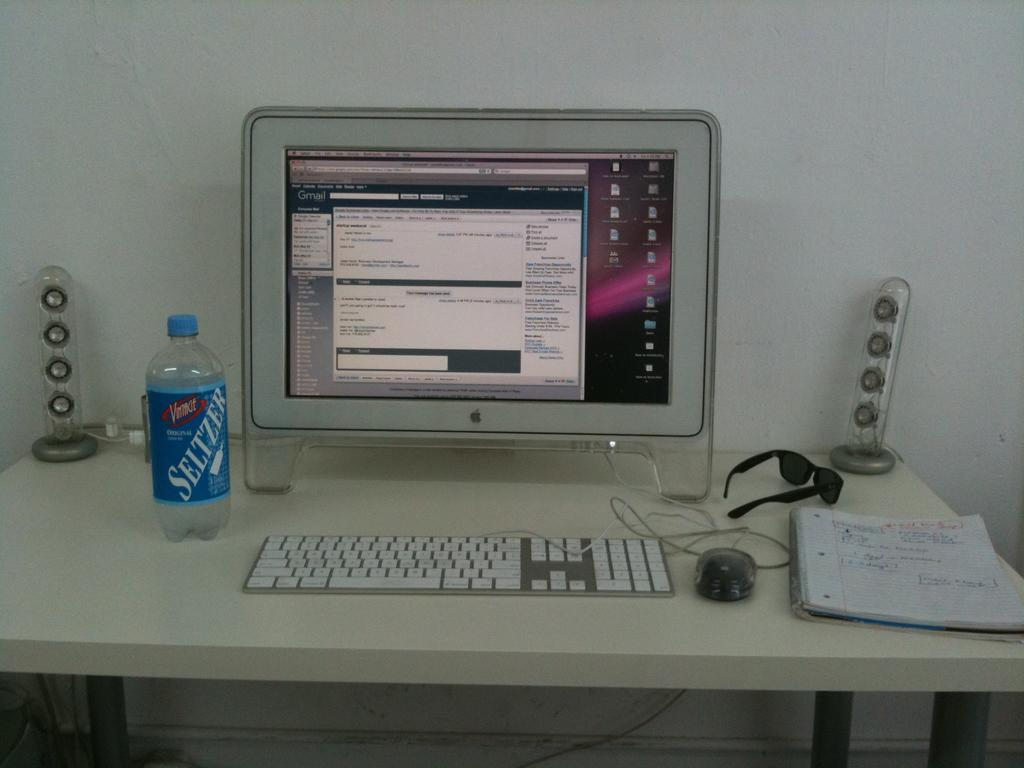Computer-keyboard: (242, 533, 678, 596)
